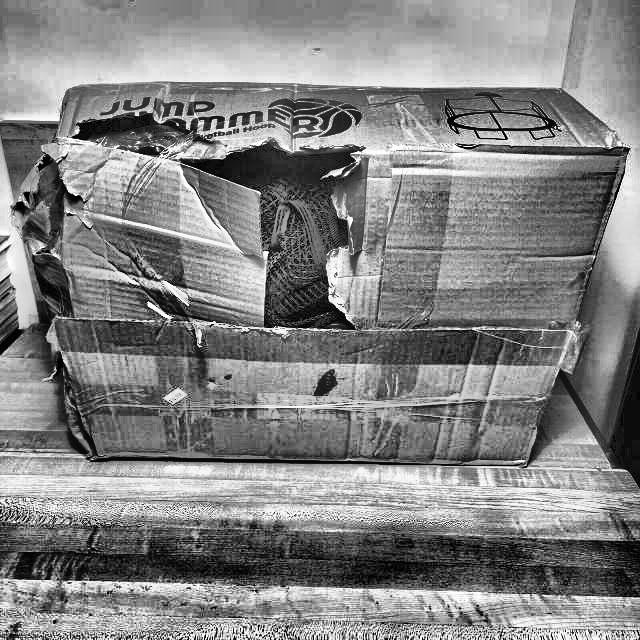box: (36, 64, 626, 477)
hole: (204, 135, 366, 339), (67, 109, 167, 143)
